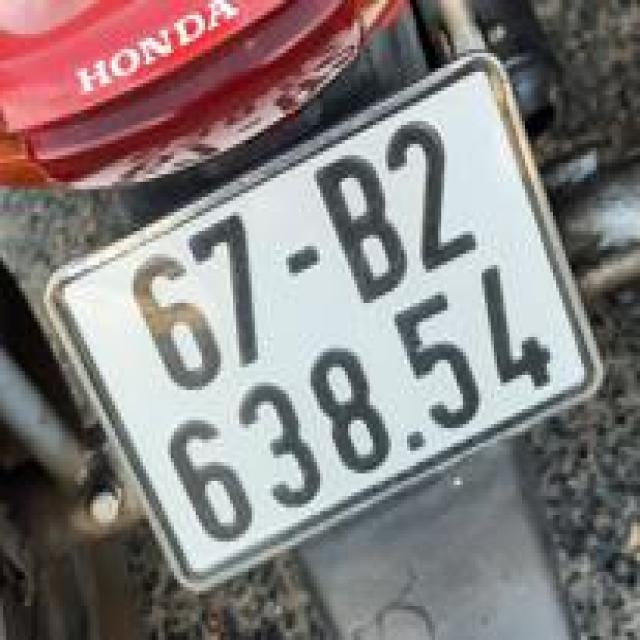2: (378, 105, 491, 280)
3: (221, 367, 334, 523)
4: (460, 251, 566, 406)
5: (380, 281, 500, 440)
6: (115, 243, 236, 408), (154, 403, 266, 555)
7: (184, 202, 297, 372)
8: (296, 333, 408, 486)
B: (306, 142, 420, 316)
